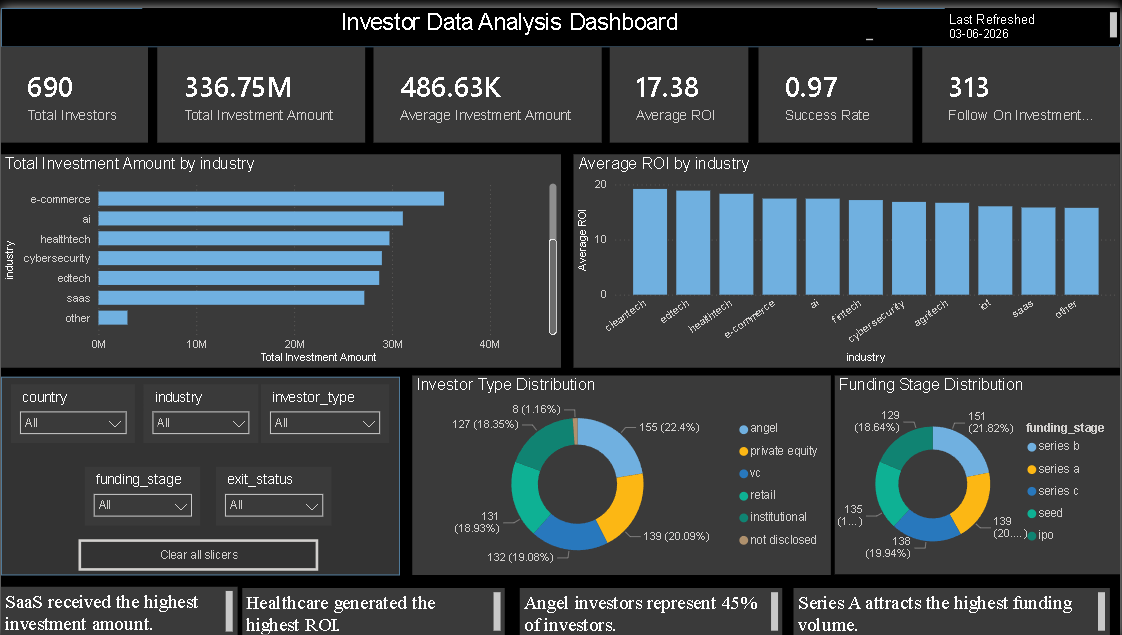

This screenshot's page, from the dashboard's own definition file:
{"tool":"powerbi","page":{"name":"Executive Summary","canvas":[1280,720],"ordinal":0},"visuals":[{"type":"shape","box":[0,0,1280,45],"z":0},{"type":"cardVisual","fields":{"Data":["Measure.Total Investors"]},"box":[0,45,167.7,109.8],"z":0,"group":"g2"},{"type":"group","id":"g1","title":"Group 3","box":[0,422,456,227],"z":0,"group":"g4"},{"type":"slicer","fields":{"Values":["Fact_Investments.country"]},"box":[10.9,430.8,141.8,67.4],"z":0,"group":"g3"},{"type":"textbox","title":"Investor Data Analysis Dashboard","box":[161.4,0,840,41.4],"z":1000},{"type":"slicer","fields":{"Values":["Fact_Investments.industry"]},"box":[162.2,430.8,131.2,67.4],"z":1000,"group":"g3"},{"type":"actionButton","box":[89,607,274,36],"z":1000,"group":"g4"},{"type":"clusteredBarChart","fields":{"Category":["Fact_Investments.industry"],"Y":["Measure.Total Investment Amount"]},"box":[0,167.5,640,243.8],"z":2000},{"type":"slicer","fields":{"Values":["Fact_Investments.investor_type"]},"box":[296.6,430.8,146,67.4],"z":2000,"group":"g3"},{"type":"cardVisual","fields":{"Data":["Measure.Total Investment Amount"]},"box":[178.6,45,237.7,109.8],"z":3000,"group":"g2"},{"type":"clusteredColumnChart","fields":{"Category":["Fact_Investments.industry"],"Y":["Measure.Average ROI"]},"box":[654.3,167.1,625.7,244.3],"z":3000},{"type":"slicer","fields":{"Values":["Fact_Investments.funding_stage"]},"box":[95.5,525.6,132.3,67.4],"z":3000,"group":"g3"},{"type":"cardVisual","fields":{"Data":["Measure.Average Investment Amount"]},"box":[425.9,45,260.6,109.8],"z":4000,"group":"g2"},{"type":"donutChart","title":"Investor Type Distribution","fields":{"Category":["Fact_Investments.investor_type"],"Y":["Measure.Total Investors"]},"box":[470,420,478,228],"z":4000},{"type":"slicer","fields":{"Values":["Fact_Investments.exit_status"]},"box":[244.7,525.6,132.3,67.4],"z":4000,"group":"g3"},{"type":"cardVisual","fields":{"Data":["Measure.Average ROI"]},"box":[696.1,45,158,109.8],"z":5000,"group":"g2"},{"type":"donutChart","title":"Funding Stage Distribution","fields":{"Category":["Fact_Investments.funding_stage"],"Y":["Measure.Total Records"]},"box":[952.5,420,327.5,227.5],"z":5000},{"type":"cardVisual","fields":{"Data":["Measure.Success Rate"]},"box":[865,45,176.1,109.8],"z":6000,"group":"g2"},{"type":"textbox","box":[0,661.2,270,58.8],"z":6000},{"type":"cardVisual","fields":{"Data":["Measure.Follow On Investment Count"]},"box":[1053.2,45,226.8,109.8],"z":7000,"group":"g2"},{"type":"textbox","box":[276.2,662.5,300,57.5],"z":7000},{"type":"textbox","box":[592.5,662.5,300,57.5],"z":8000},{"type":"textbox","box":[906.2,662.5,361.2,57.5],"z":9000},{"type":"group","id":"g2","title":"Group 1","box":[0,45,1280,110],"z":10000},{"type":"shape","box":[0,422,456,227],"z":10001,"group":"g1"},{"type":"group","id":"g3","title":"Group 2","box":[10.9,430.8,432.2,162.1],"z":10008,"group":"g1"},{"type":"group","id":"g4","title":"Group 4","box":[0,422,456,227],"z":11000},{"type":"textbox","box":[1078,0,202,41.3],"z":12000}]}

Visuals, with their boxes in screenshot pixels (x1, y1, x2, y2), scaled from the page's 1280x720 canvas onto the 1122x635 screenshot:
shape: (0, 0, 1121, 40)
cardVisual - Measure.Total Investors: (0, 40, 147, 137)
"Group 3" group: (0, 372, 400, 572)
slicer - Fact_Investments.country: (10, 380, 134, 439)
"Investor Data Analysis Dashboard" textbox: (141, 0, 878, 37)
slicer - Fact_Investments.industry: (142, 380, 257, 439)
actionButton: (78, 535, 318, 567)
clusteredBarChart - Fact_Investments.industry x Measure.Total Investment Amount: (0, 148, 561, 363)
slicer - Fact_Investments.investor_type: (260, 380, 388, 439)
cardVisual - Measure.Total Investment Amount: (157, 40, 365, 137)
clusteredColumnChart - Fact_Investments.industry x Measure.Average ROI: (574, 147, 1121, 363)
slicer - Fact_Investments.funding_stage: (84, 464, 200, 523)
cardVisual - Measure.Average Investment Amount: (373, 40, 602, 137)
"Investor Type Distribution" donutChart: (412, 370, 831, 572)
slicer - Fact_Investments.exit_status: (214, 464, 330, 523)
cardVisual - Measure.Average ROI: (610, 40, 749, 137)
"Funding Stage Distribution" donutChart: (835, 370, 1121, 571)
cardVisual - Measure.Success Rate: (758, 40, 913, 137)
textbox: (0, 583, 237, 634)
cardVisual - Measure.Follow On Investment Count: (923, 40, 1121, 137)
textbox: (242, 584, 505, 634)
textbox: (519, 584, 782, 634)
textbox: (794, 584, 1111, 634)
"Group 1" group: (0, 40, 1121, 137)
shape: (0, 372, 400, 572)
"Group 2" group: (10, 380, 388, 523)
"Group 4" group: (0, 372, 400, 572)
textbox: (945, 0, 1121, 36)
